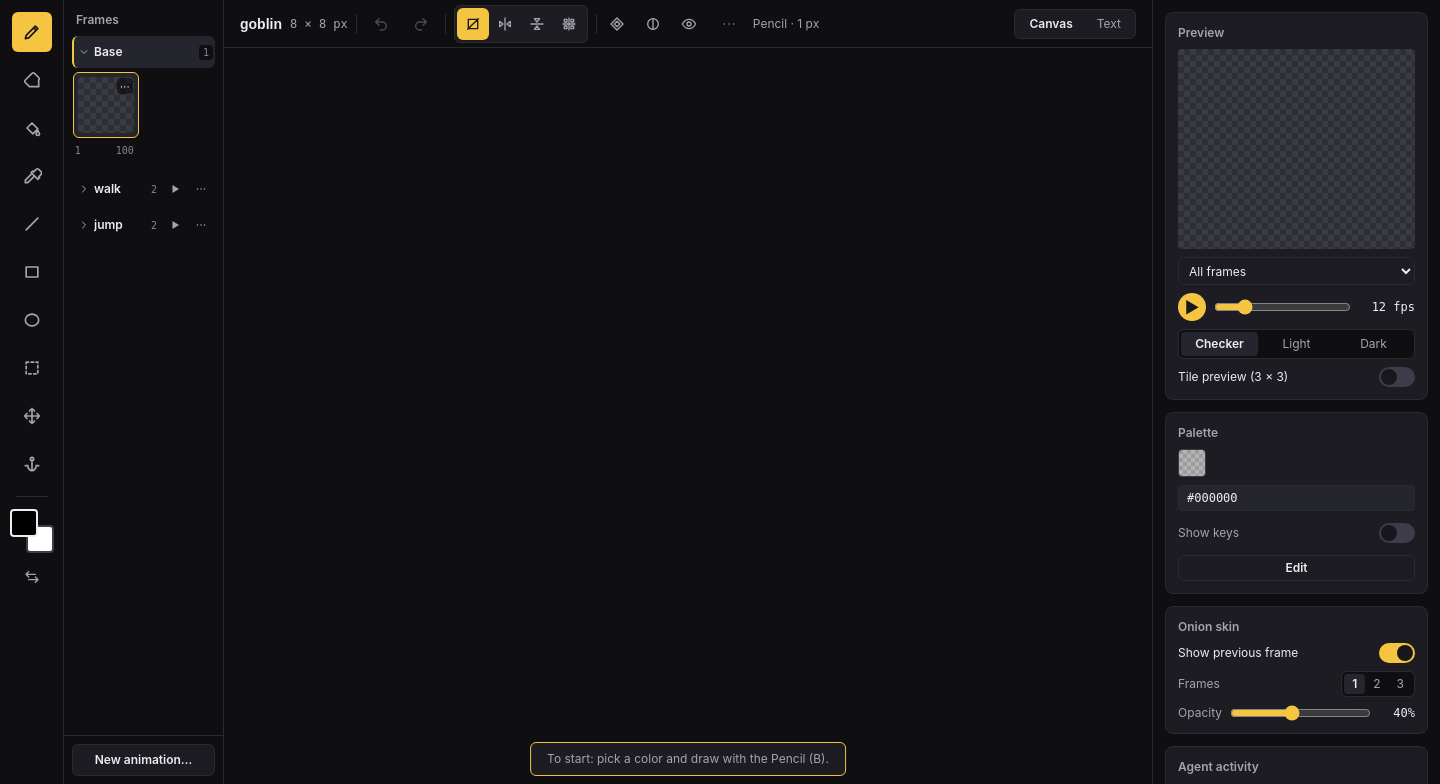
Scenario: The menu of an animation › renames an animation
Click the button named "Menu of walk" at [201, 189], box 189,177 -> 213,201
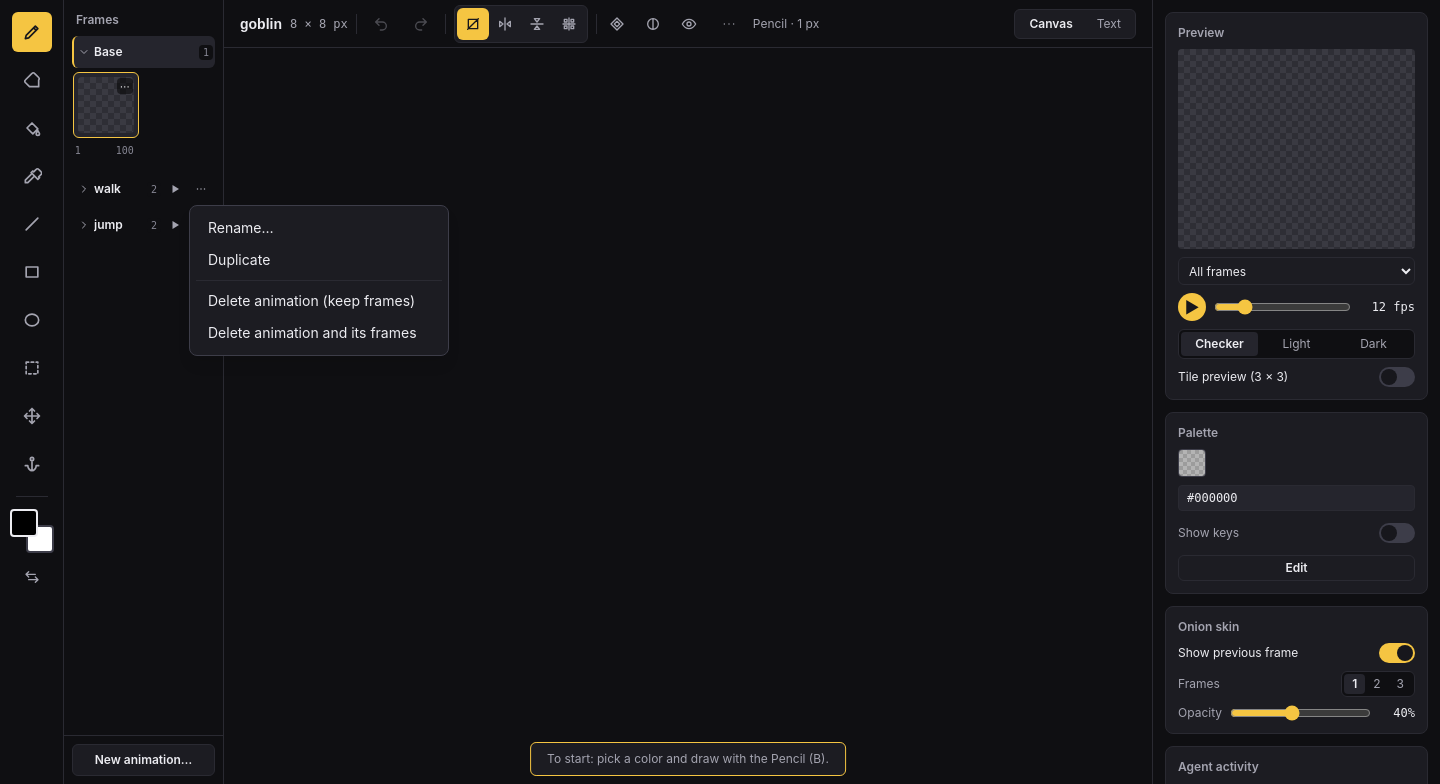
Click the menu item "Rename…" at [319, 228], box 196,212 -> 442,244
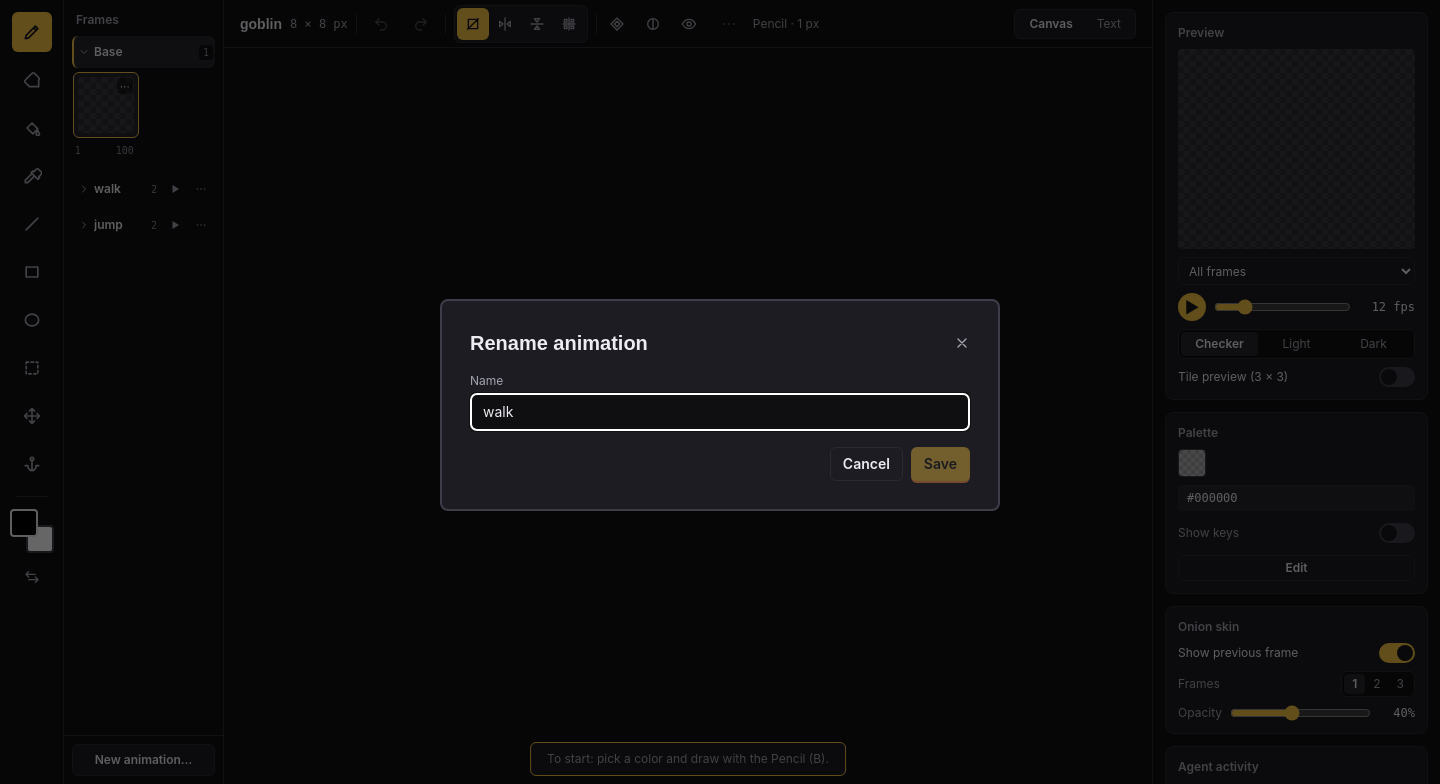
Replace the text in the field labelled "Name" with "Jump" at [720, 412], box 470,393 -> 970,431
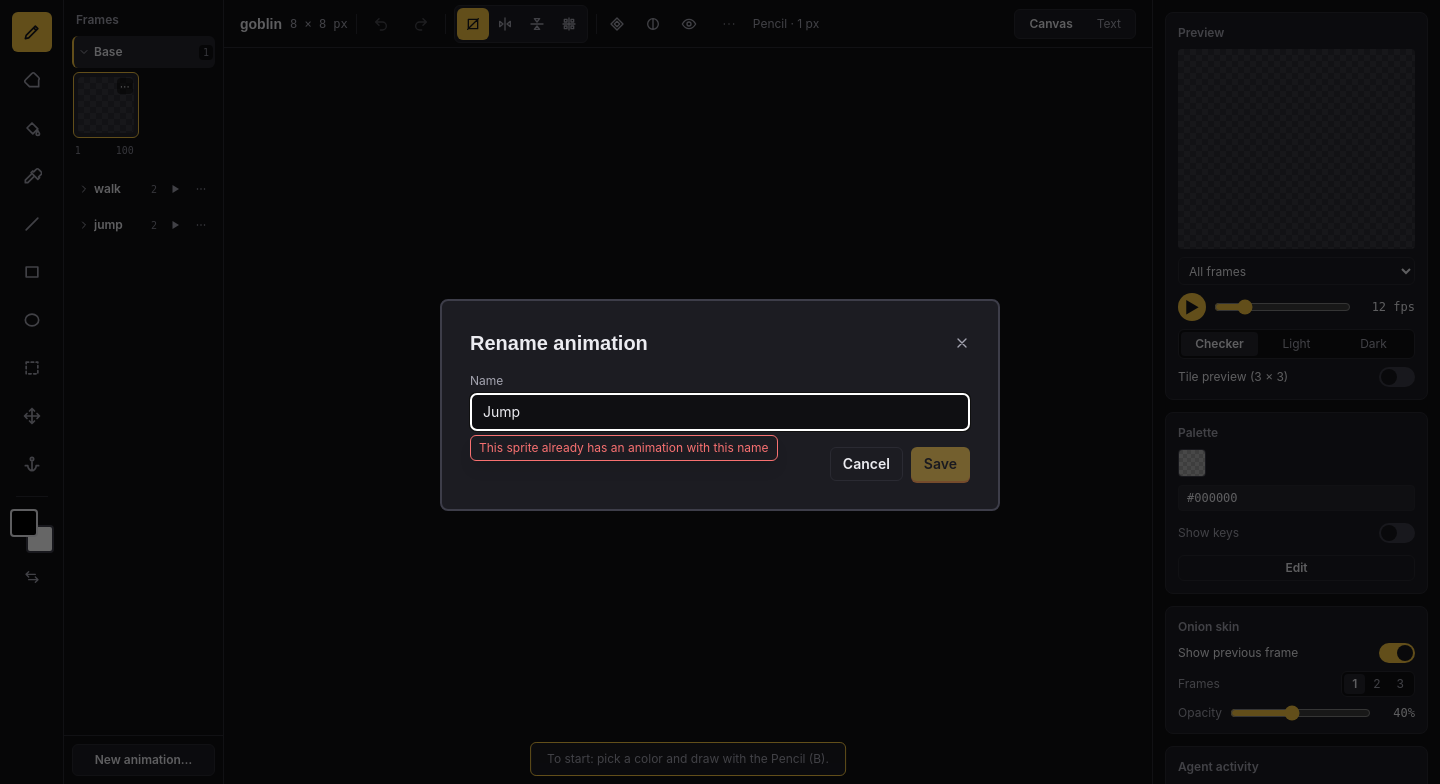
Expected: the text "This sprite already has an animation with this name" is shown, 470,435 -> 778,461
Replace the text in the field labelled "Name" with "stroll" at [720, 412], box 470,393 -> 970,431
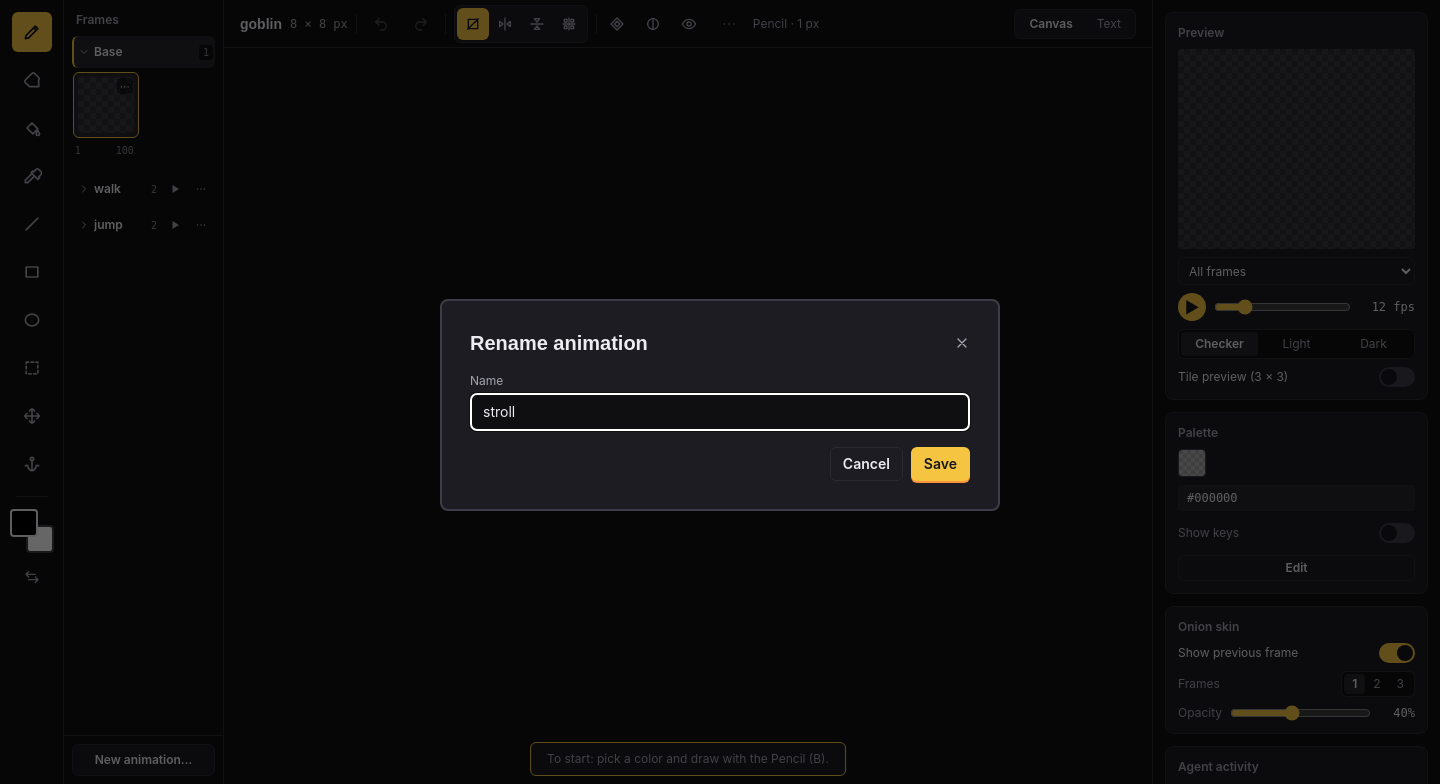
Click the button "Save" at [940, 464], box 911,447 -> 970,481
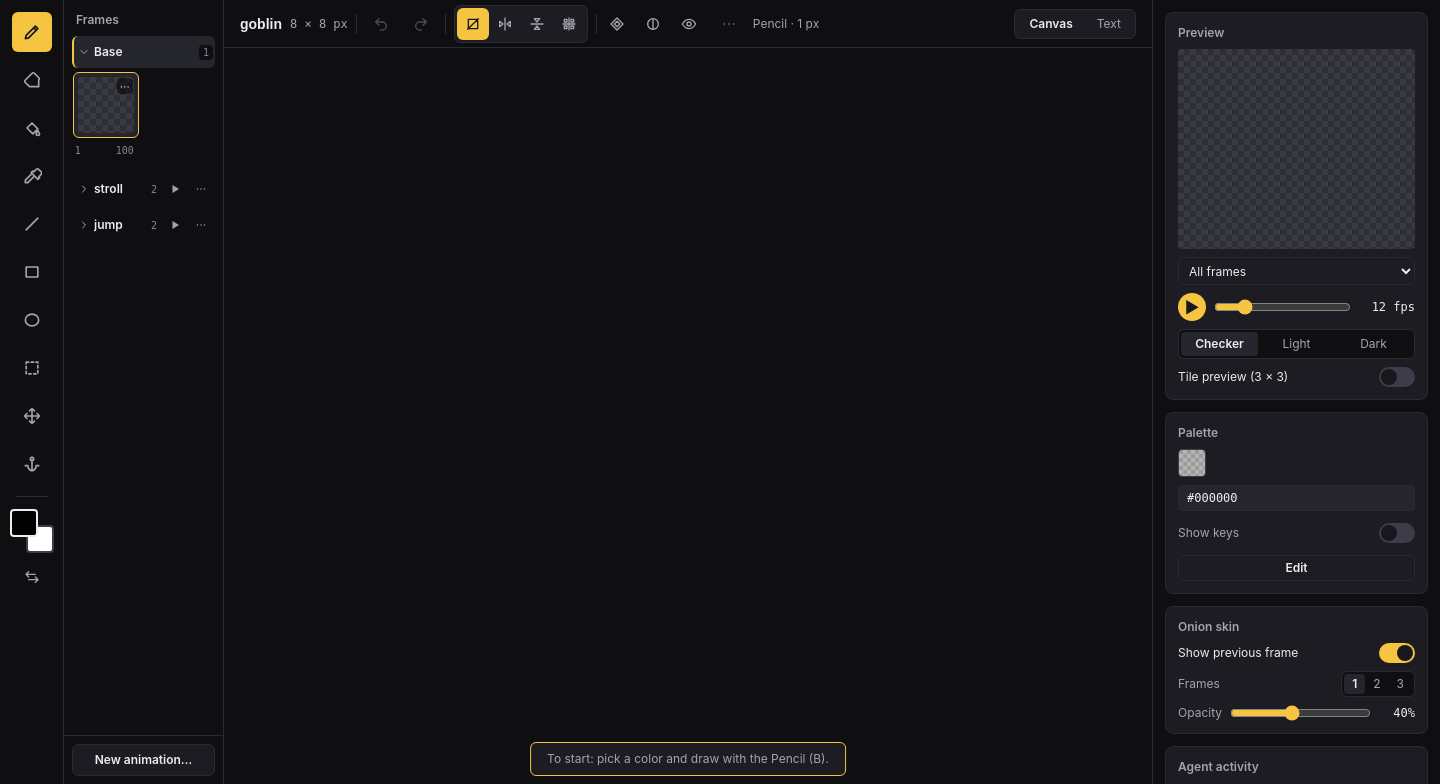
Expected: the element "stroll" is shown, 72,173 -> 215,205
Expected: the button "walk" is gone
